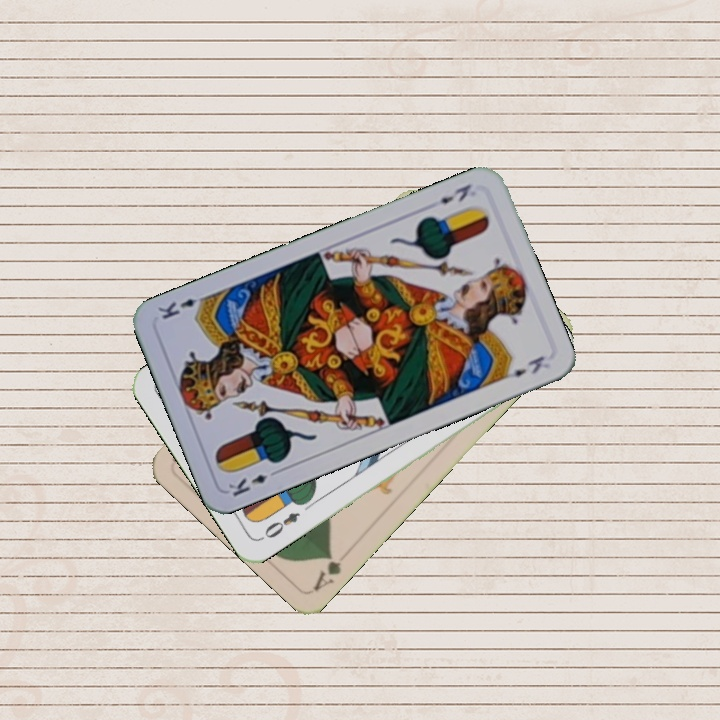EK: (224, 465, 282, 499), (435, 179, 474, 207)
EO: (257, 508, 303, 543)
GA: (309, 549, 344, 594)
